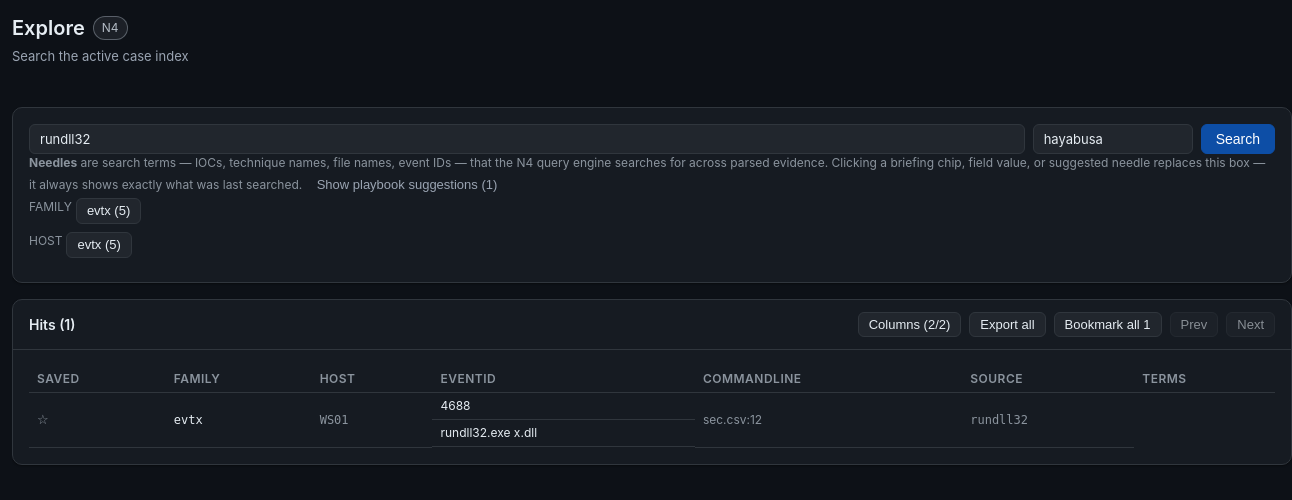
Explore page (WP 4j.5) › bookmark-all sends the current search params, not the rendered page (4j.5c)
Expected: the text "4688" is shown, [432,394,695,420]
Click the button "Bookmark all 1" at (1108, 325), box [1054,312,1162,338]
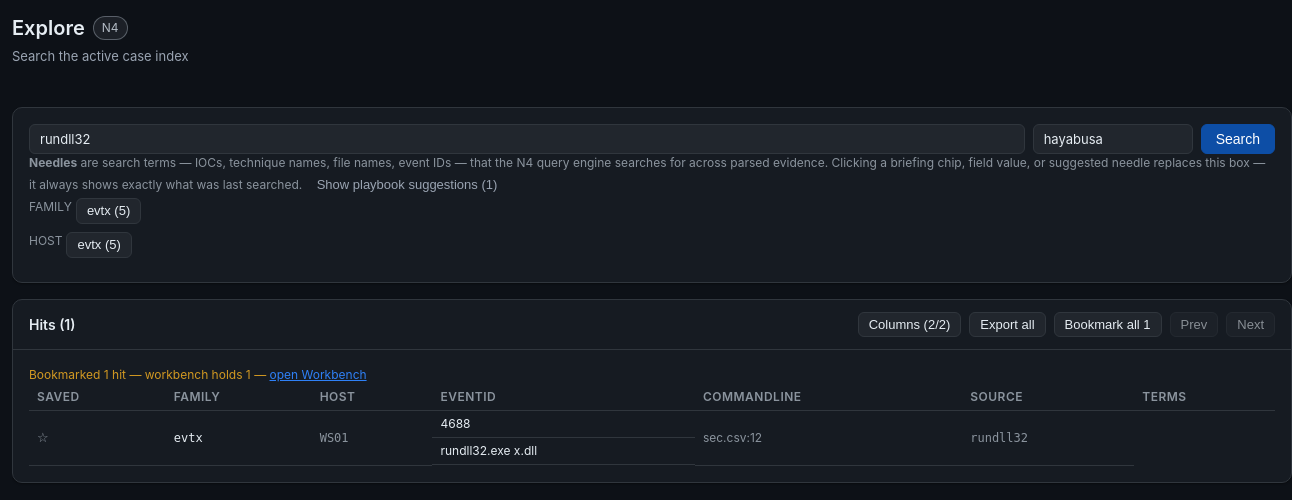
Expected: the text "Bookmarked 1 hit — workbench holds 1 — open Workbench" is shown, [29,368,367,382]
